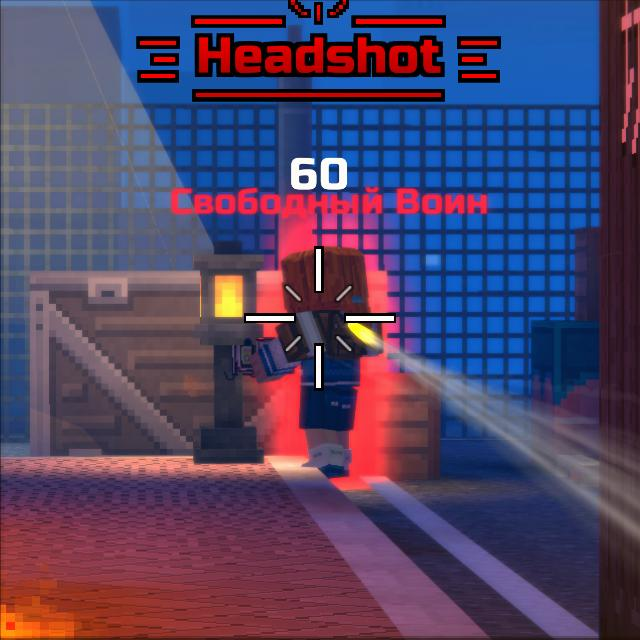Enemy: (239, 253, 383, 482)
